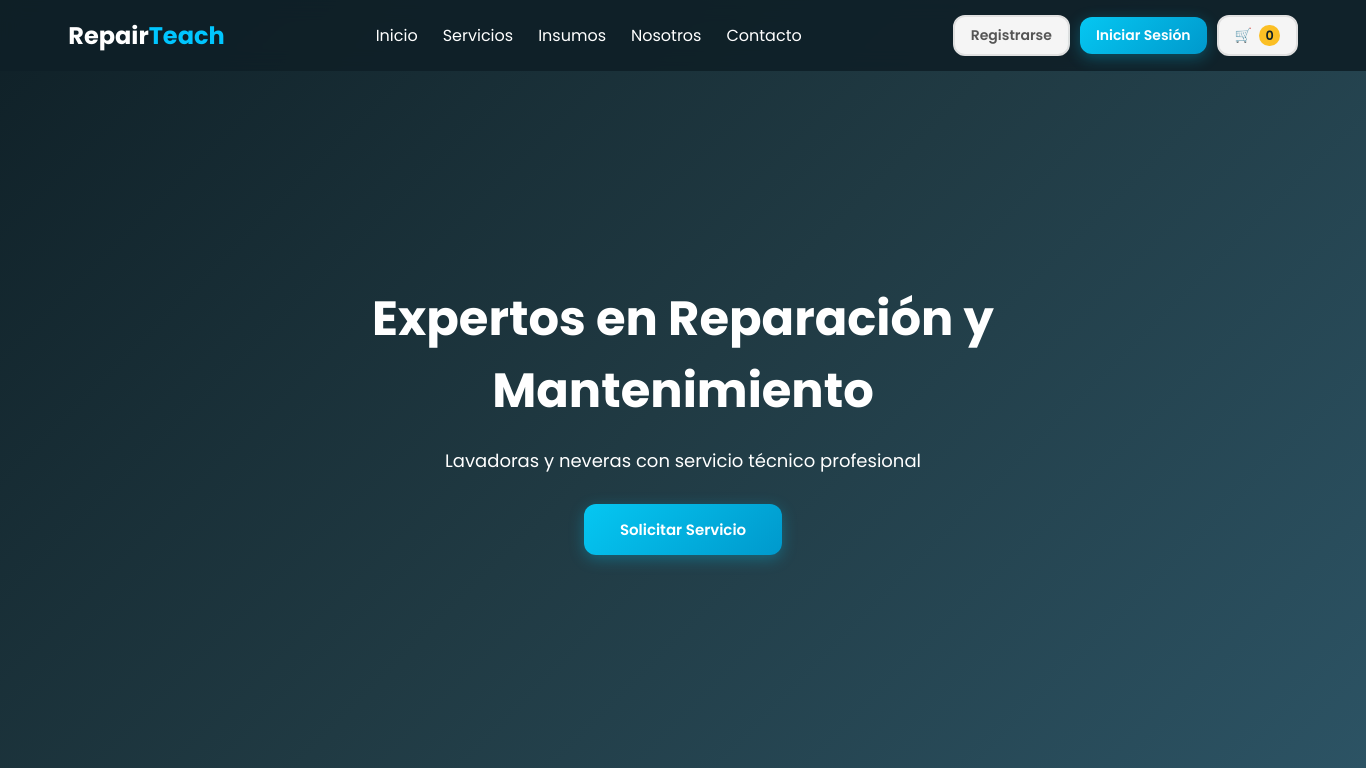
CP-01 | Inicio: encabezado, hero y autenticación › valida el inicio y autentica a un cliente (credenciales inválidas y válidas)
Expected: the element with class "logo" reads "RepairTeach", [68, 18, 224, 53]
Expected: the text "Teach" is shown, [149, 19, 225, 52]
Click the button "Solicitar Servicio" at point(683, 530), box [584, 504, 782, 555]
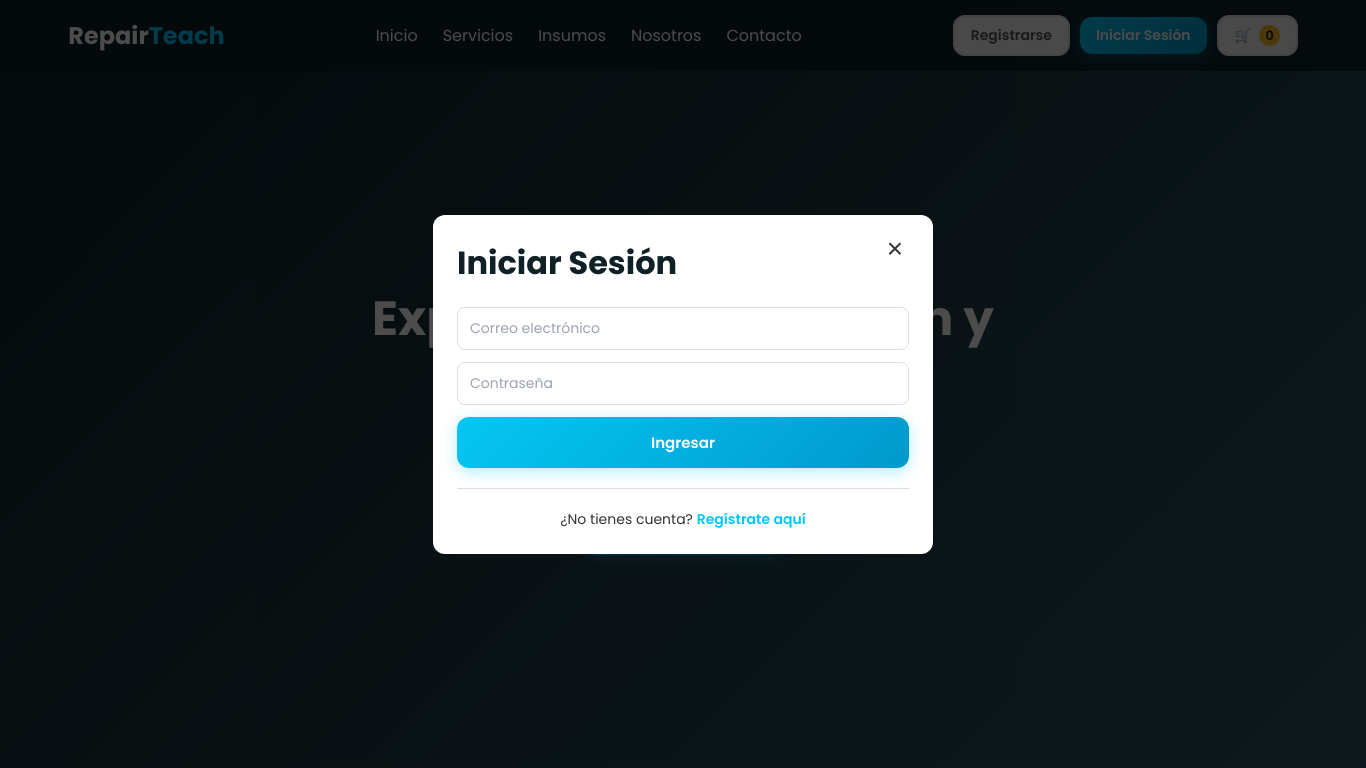
Expected: the element with id "loginModal" is shown
Expected: the heading "Iniciar Sesión" is shown, [457, 240, 677, 284]
Expected: the field with placeholder "Correo electrónico" is shown
Type "noexiste@repairtech.com" into the field with placeholder "Correo electrónico" at point(683, 329), box [457, 307, 909, 350]
Type "claveIncorrecta" into the password field with placeholder "Contraseña" at point(683, 384), box [457, 362, 909, 405]
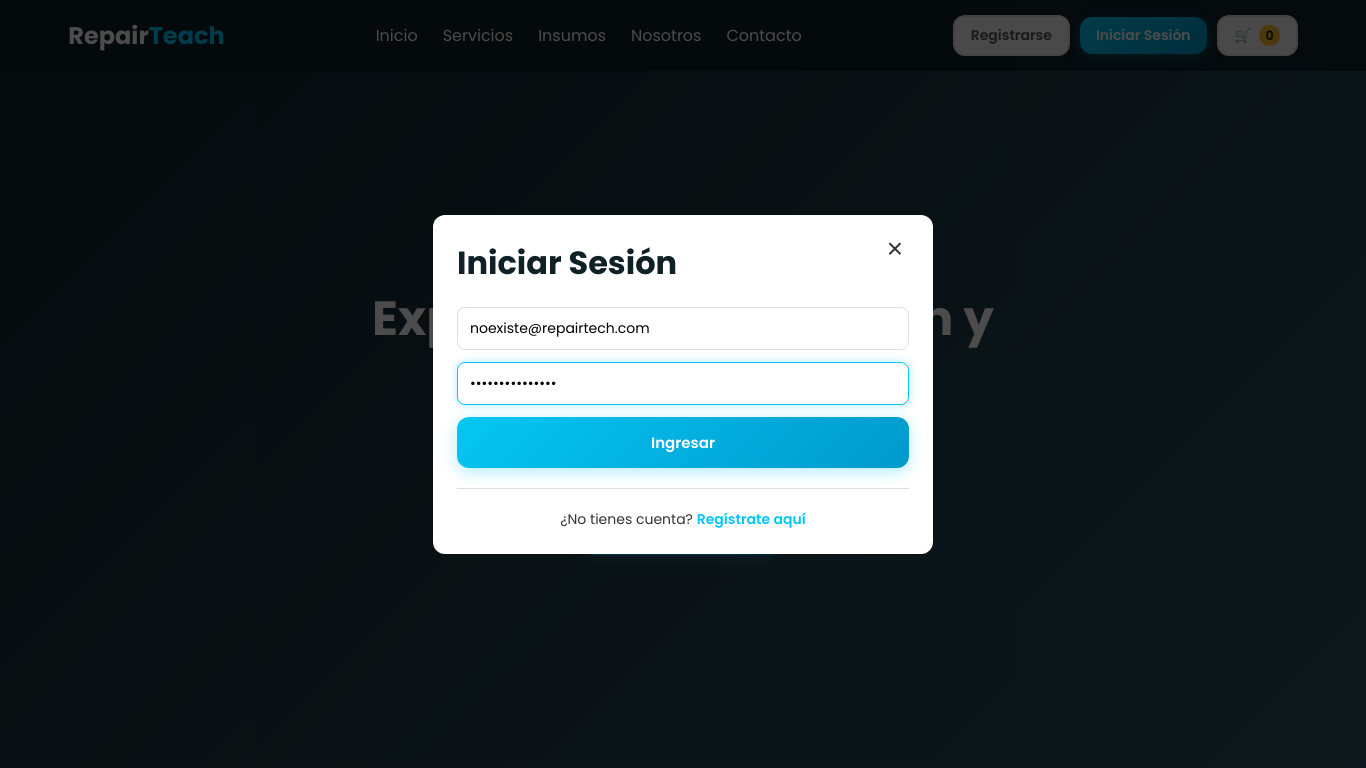
Click the submit button at point(683, 443), box [457, 417, 909, 468]
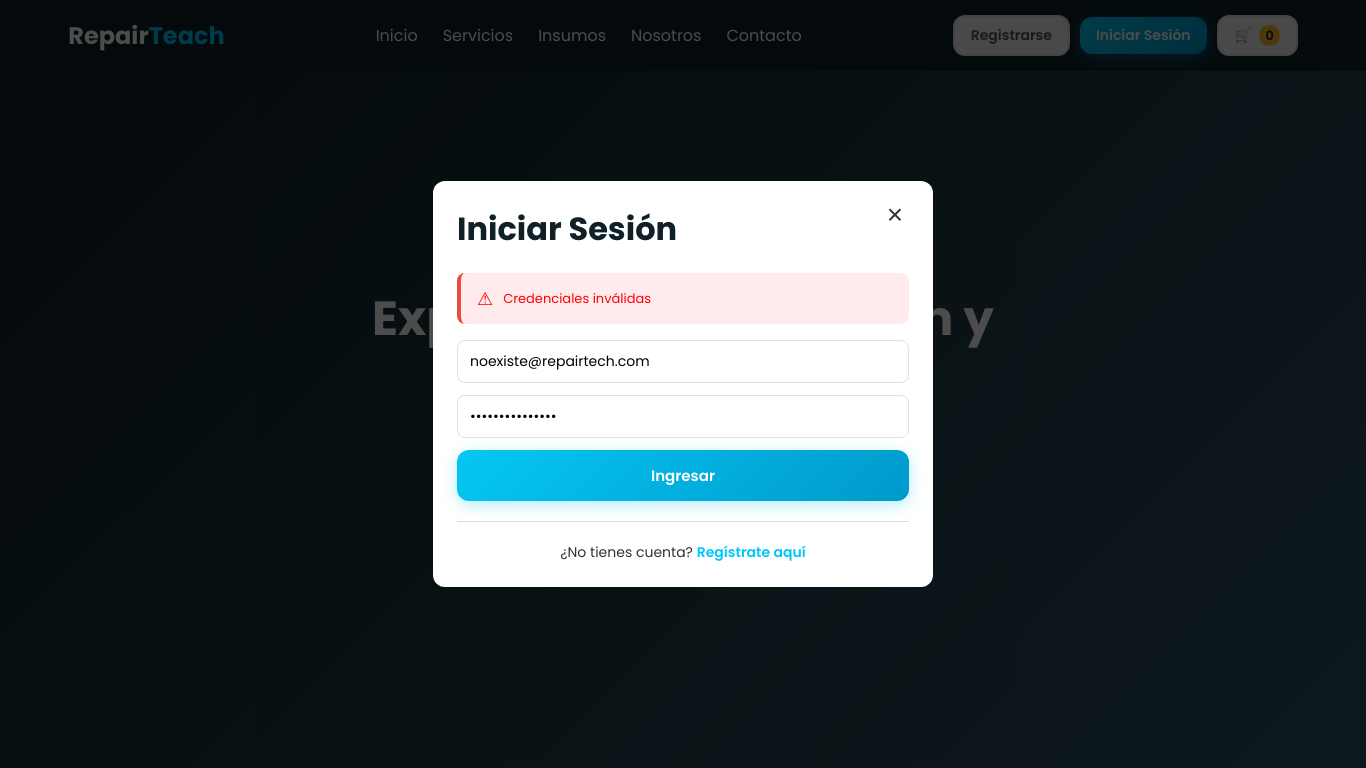
Expected: the text with class "error-message" reads "Credenciales inválidas", [457, 273, 909, 324]
Replace the text in the field with "cliente@repairtech.com" at point(683, 362), box [457, 340, 909, 383]
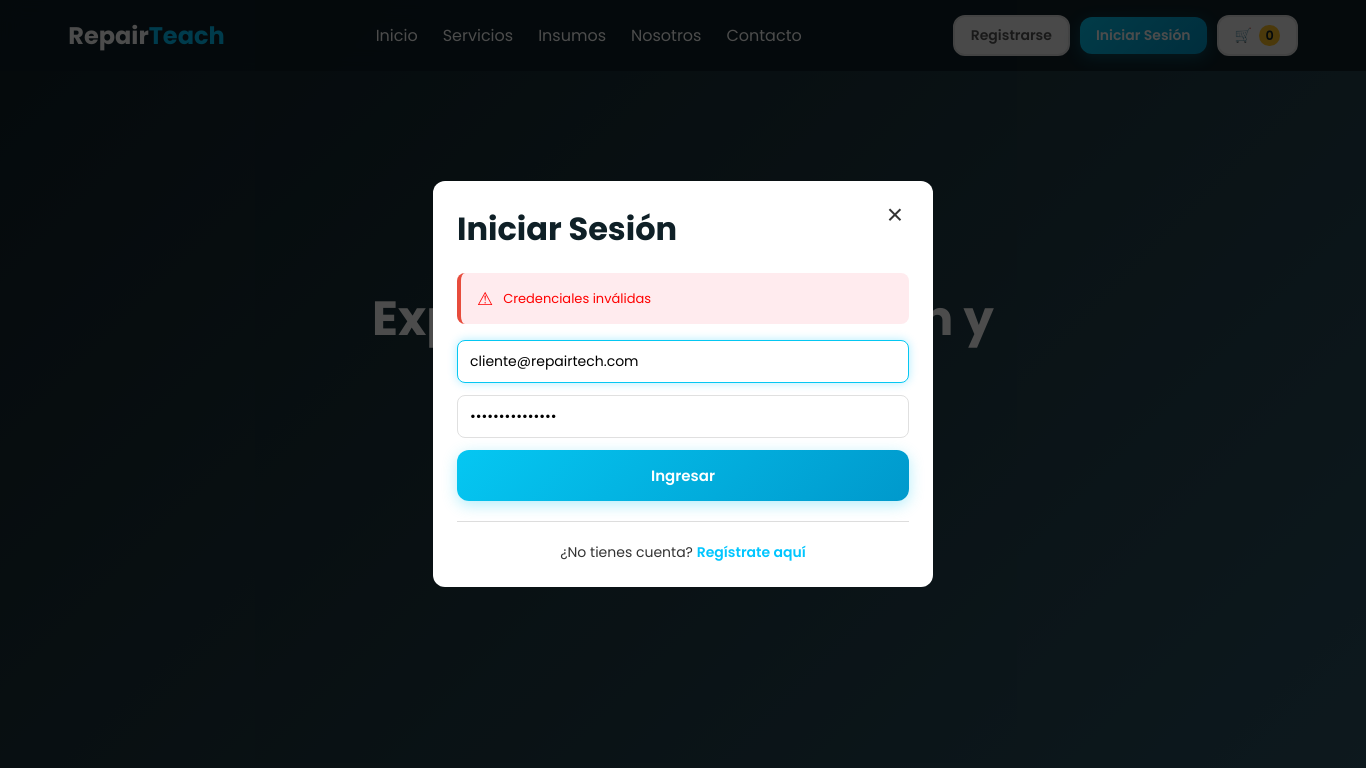
Type "Cliente123" into the password field at point(683, 417), box [457, 395, 909, 438]
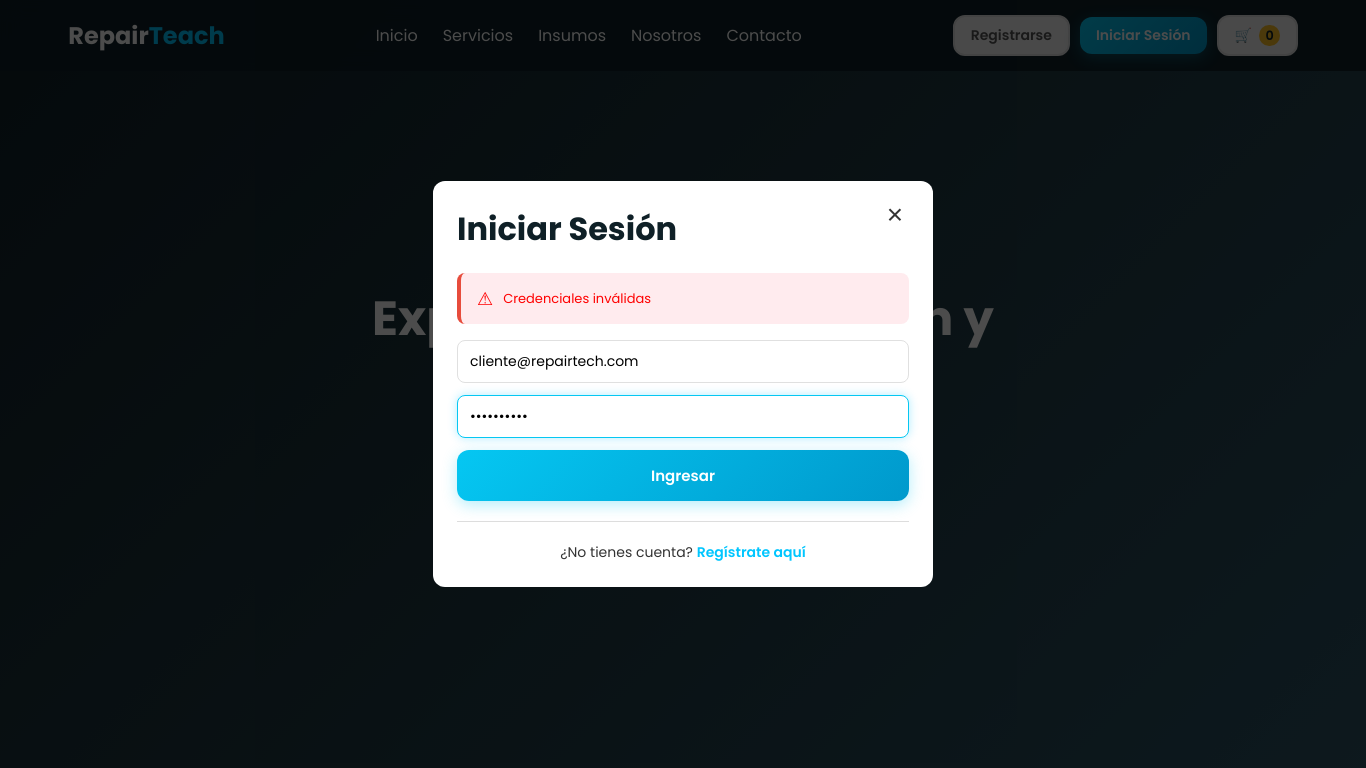
Click the submit button at point(683, 476), box [457, 450, 909, 501]
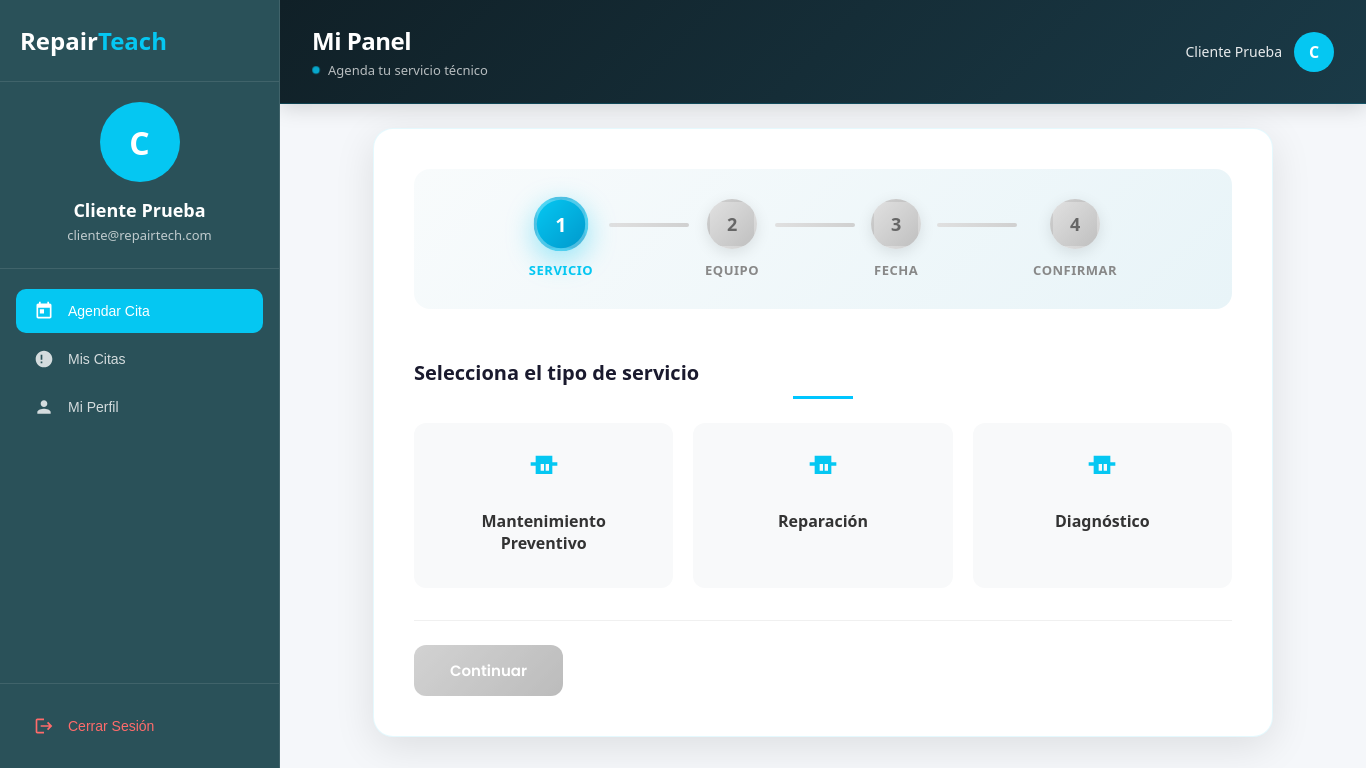
Expected: the element with id "loginModal" is gone
Expected: the header with class "header" is gone
Expected: the heading "Mi Panel" is shown, [312, 24, 411, 57]
